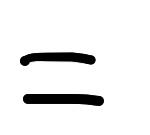eqv: (17, 48, 108, 107)
